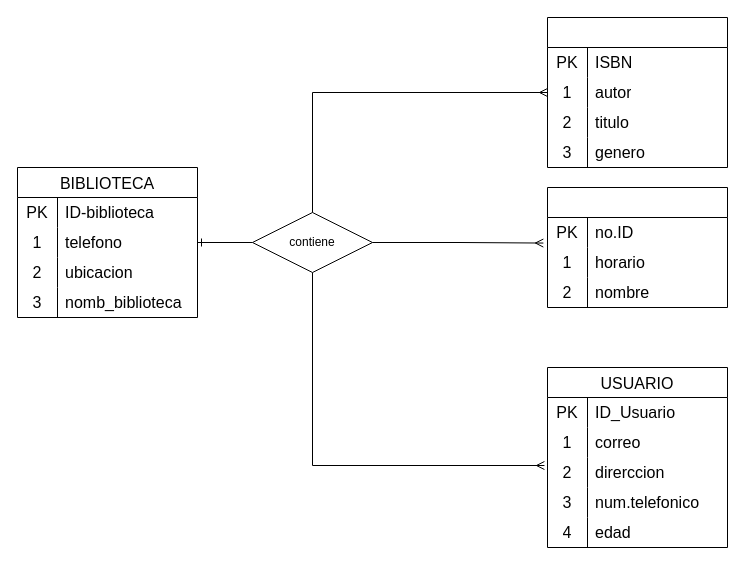
The diagram is 745 pixels wide and 565 high, and some of its shapes have lost their labels. The box of each missing label's shape, as (x1, y1, x2, y2) in pixels:
BIBLIOTECARIO: (546, 186, 728, 308)
LIBRO: (546, 16, 728, 168)
